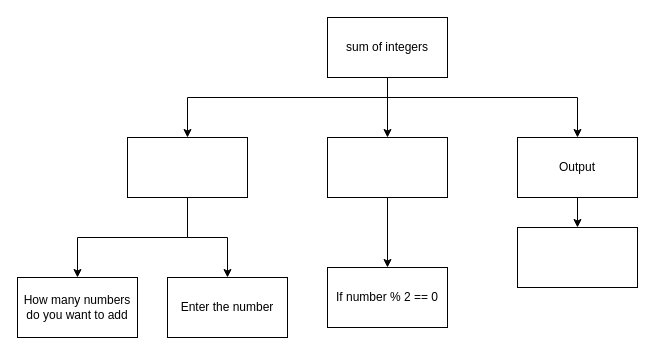
Image size: 655x355. Some labels were removed from this diagram. Each missing label, with the box of its shape:
Input: (126, 136, 248, 198)
Process: (326, 136, 448, 198)
Show answer accordingly: (516, 226, 638, 288)
